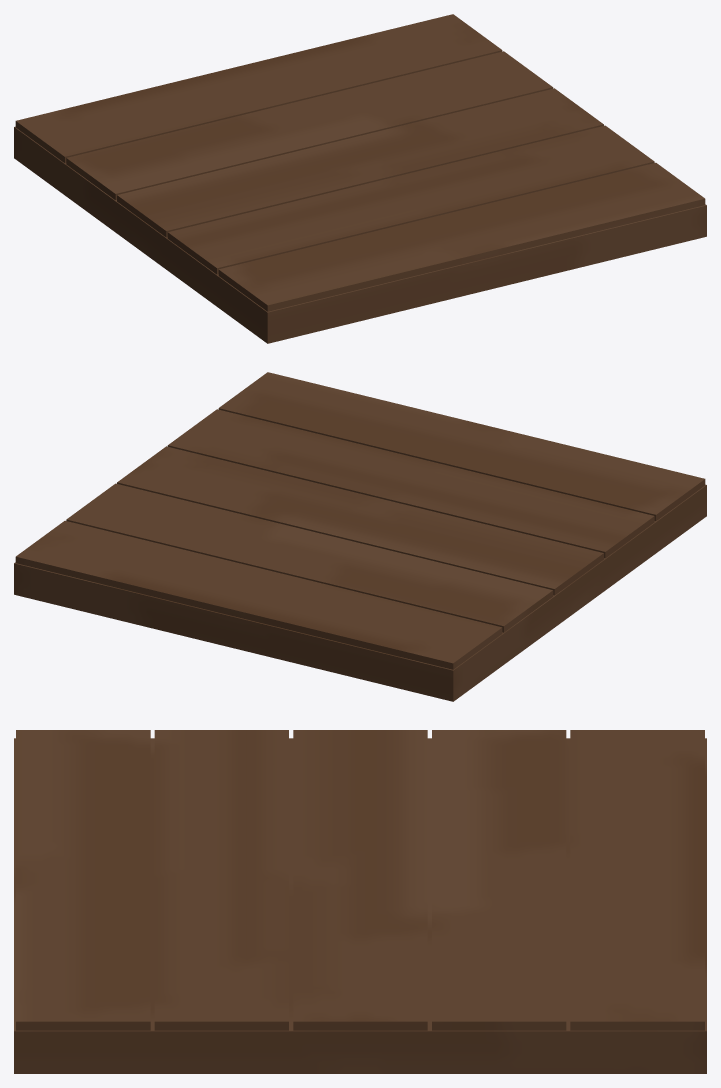
The model's file is alderwake_dock_pilot.glb.
3 views of the same model, one above another, from view 1: azimuth 30°, elevation 25°; view 2: azimuth 150°, elevation 25°; view 3: azimuth 270°, elevation 25° (orthographic). The views are drawn at different scales.
Parts seen in each view (by area): view 1: GEO-dock-plank-module; view 2: GEO-dock-plank-module; view 3: GEO-dock-plank-module.
Part boxes in pixels (x1,y1,x2,y2): GEO-dock-plank-module: [14, 14, 706, 343]; GEO-dock-plank-module: [14, 372, 706, 701]; GEO-dock-plank-module: [14, 730, 706, 1073].
Bounding box in the file's own units: 1 × 0.082 × 1.
1 material, 1 textured.
